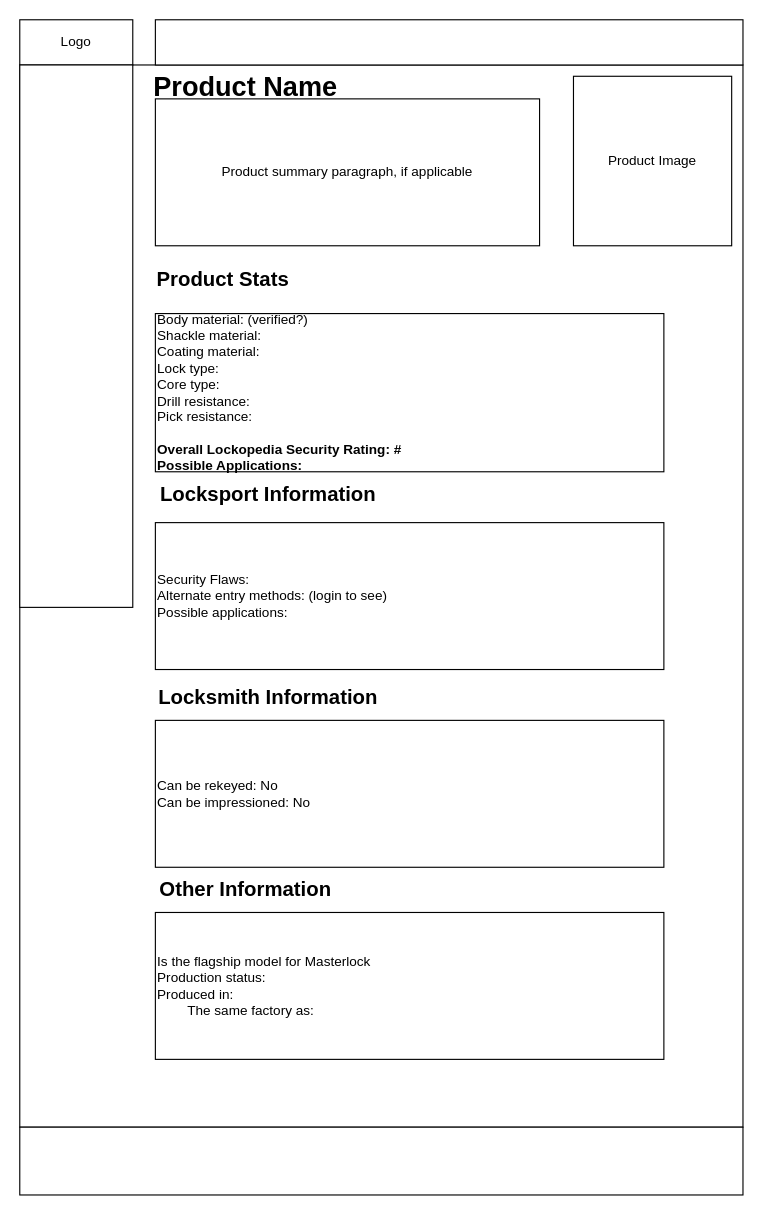
Image size: 763x1215. Some labels were removed from this diagram. The box of each missing label's shape, as (x1, y1, x2, y2) in pixels:
Gallery: (19, 1126, 743, 1195)
il Sidebar: (19, 64, 133, 607)
Navbar, search, other features: (154, 19, 743, 65)
